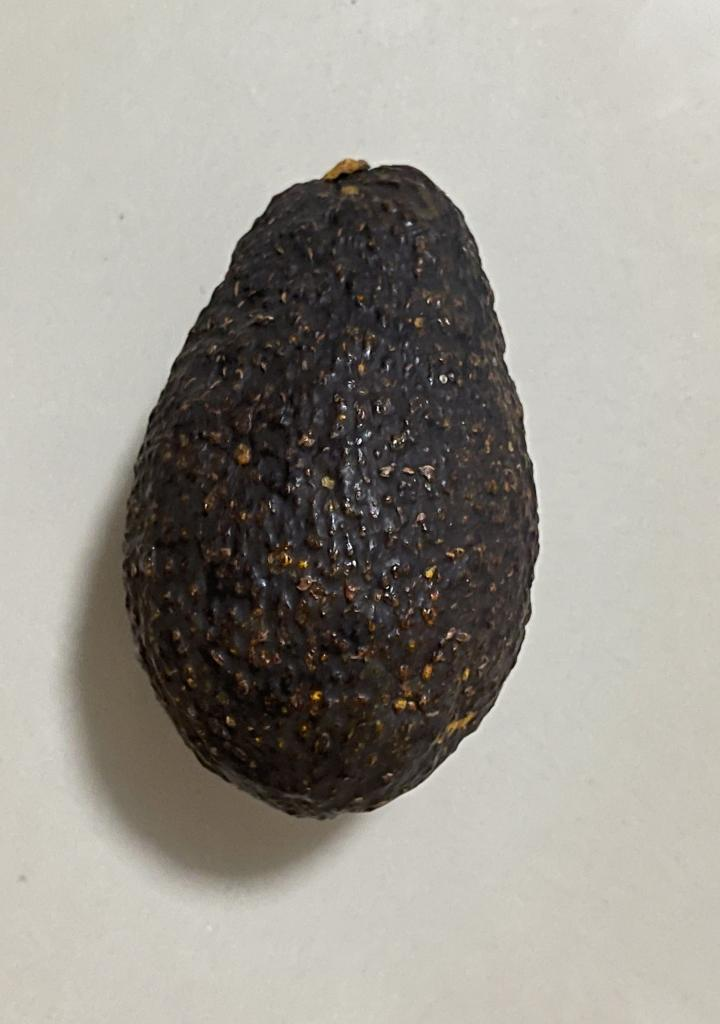Level3: (107, 145, 557, 830)
